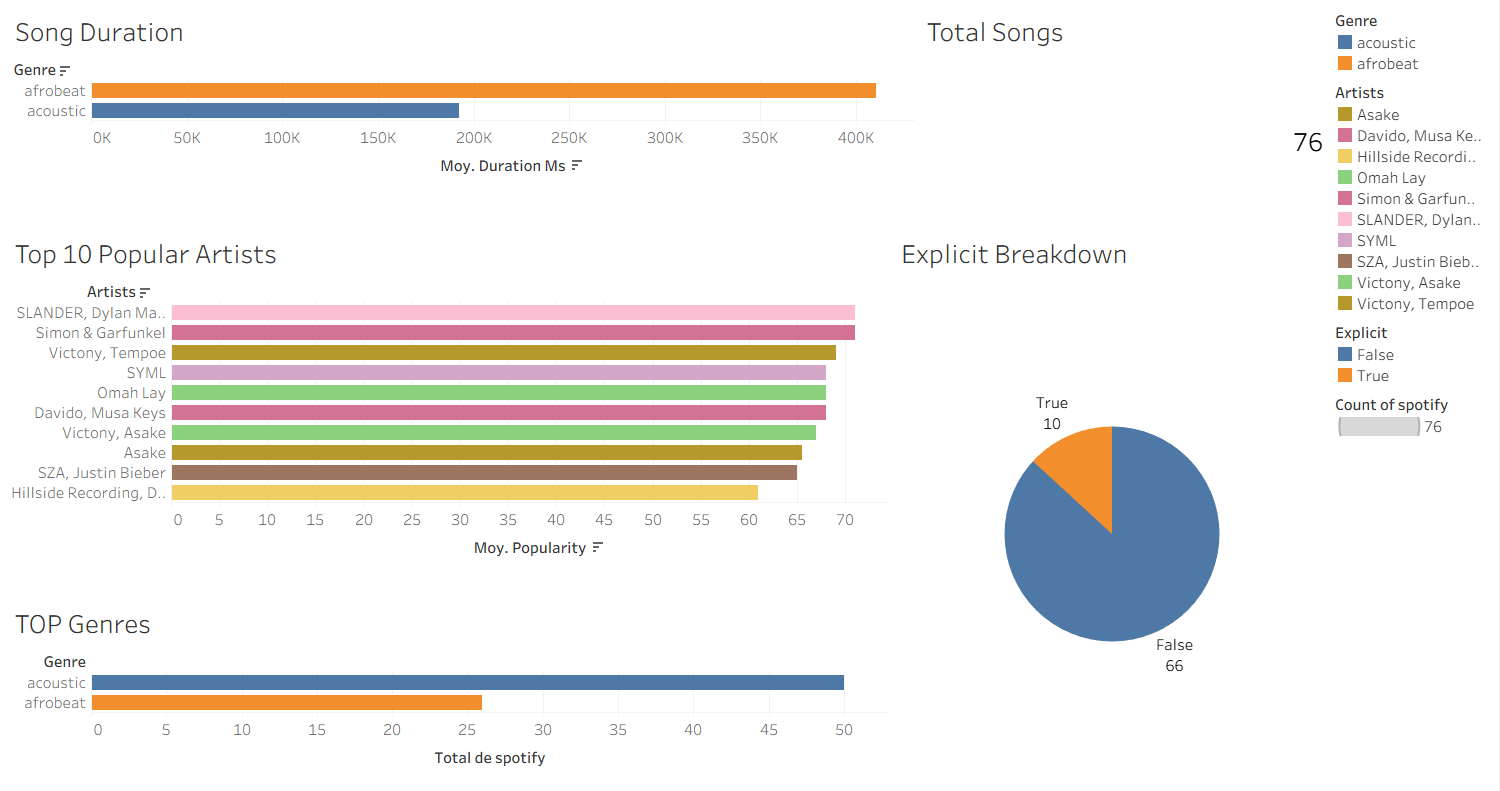

Layout of this report page (visuals, bound fields, positions):
{"tool":"tableau","page":{"name":"Dashboard 1","canvas":[1500,800],"ordinal":0},"visuals":[{"type":"worksheet","title":"Song Duration","mark":"Automatic","rows":["genre"],"cols":["duration_ms"],"box":[8,8,912,222]},{"type":"worksheet","title":"Total Songs","mark":"Text","box":[920,8,412,222]},{"type":"legend","title":"Song Duration","param":"[federated.0tg91ik02zpa260zlqumj1pfijxn].[none:genre:nk]","box":[1332,8,160,72]},{"type":"legend","title":" Top 10 Popular Artists","param":"[federated.0tg91ik02zpa260zlqumj1pfijxn].[none:artists:nk]","box":[1332,80,160,240]},{"type":"worksheet","title":" Top 10 Popular Artists","mark":"Automatic","rows":["artists"],"cols":["popularity"],"box":[8,230,886,370]},{"type":"worksheet","title":"Explicit Breakdown","mark":"Pie","box":[894,230,438,562]},{"type":"legend","title":"Explicit Breakdown","param":"[federated.0tg91ik02zpa260zlqumj1pfijxn].[none:explicit:nk]","box":[1332,320,160,72]},{"type":"legend","title":"Explicit Breakdown","param":"[federated.0tg91ik02zpa260zlqumj1pfijxn].[__tableau_internal_object_id__].[cnt:s","box":[1332,392,160,51]},{"type":"worksheet","title":"TOP genres","mark":"Bar","rows":["genre"],"cols":["spotify_2FA452C6C4AB4D3FBAD3932321B1F894"],"box":[8,600,886,192]}]}

Visuals, with their boxes in screenshot pixels (x1, y1, x2, y2), scaled from the page's 1500x800 canvas onto the 1500x791 screenshot:
"Song Duration" worksheet: l=8, t=8, r=920, b=227
"Total Songs" worksheet (Text marks): l=920, t=8, r=1332, b=227
"Song Duration" legend: l=1332, t=8, r=1492, b=79
" Top 10 Popular Artists" legend: l=1332, t=79, r=1492, b=316
" Top 10 Popular Artists" worksheet: l=8, t=227, r=894, b=593
"Explicit Breakdown" worksheet (Pie marks): l=894, t=227, r=1332, b=783
"Explicit Breakdown" legend: l=1332, t=316, r=1492, b=388
"Explicit Breakdown" legend: l=1332, t=388, r=1492, b=438
"TOP genres" worksheet (Bar marks): l=8, t=593, r=894, b=783
